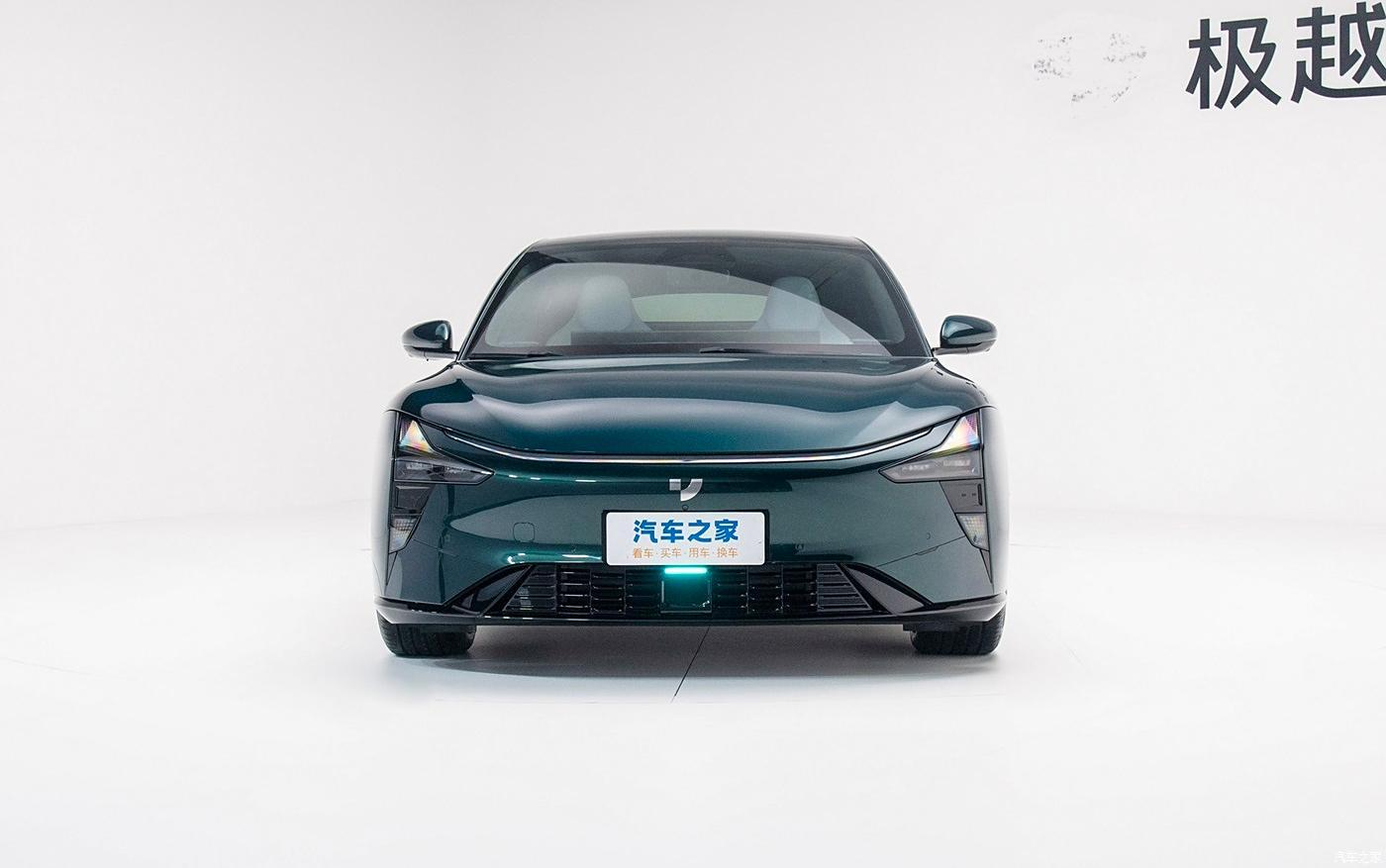JIYUE: (667, 477, 704, 502)
